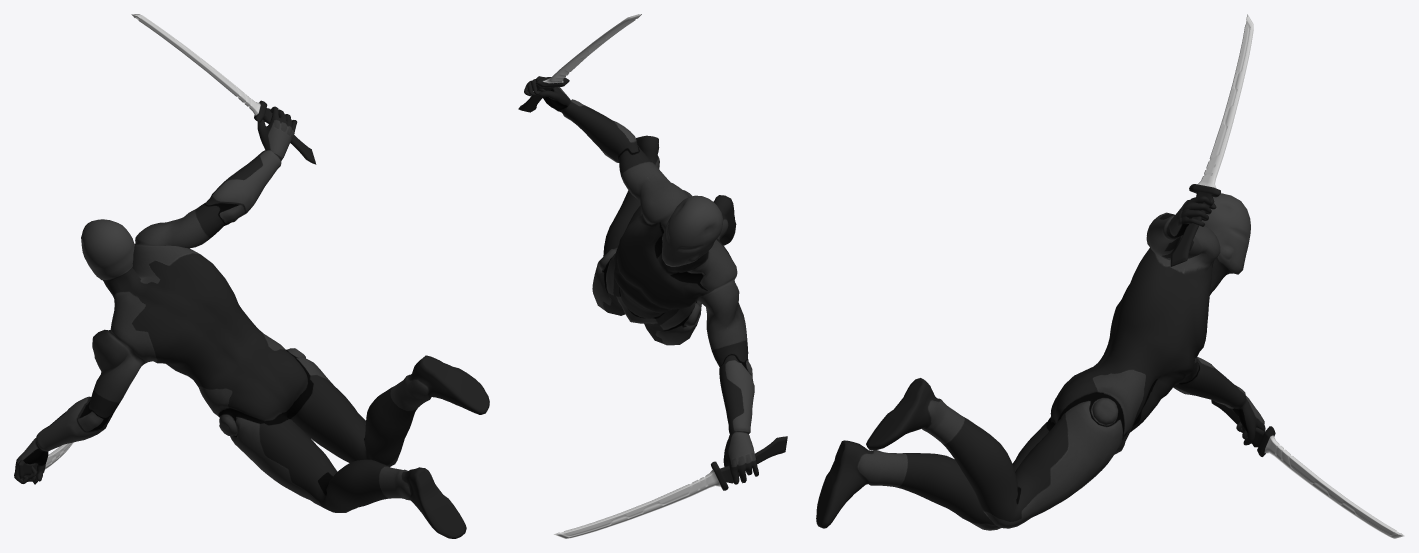
3 views of the same model, side by side, from view 1: azimuth 30°, elevation 25°; view 2: azimuth 150°, elevation 25°; view 3: azimuth 270°, elevation 25° (orthographic). The views are drawn at different scales.
Visible parts, largest first — view 1: Cyborg_Ninja_Killer, Sword_l001; view 2: Cyborg_Ninja_Killer, Sword_l, Sword_l001; view 3: Cyborg_Ninja_Killer, Sword_l001, Sword_l.
Part boxes in pixels (box(x1,y1,x2,y2)): Cyborg_Ninja_Killer: box(14, 106, 489, 538); Sword_l001: box(131, 14, 316, 164); Cyborg_Ninja_Killer: box(524, 76, 758, 484); Sword_l: box(554, 436, 787, 538); Sword_l001: box(518, 14, 641, 112); Cyborg_Ninja_Killer: box(816, 193, 1265, 530); Sword_l001: box(1170, 14, 1253, 266); Sword_l: box(1211, 400, 1404, 538).
Bounding box in the file's own units: 127 × 184 × 189.
2 materials, 2 textured.
